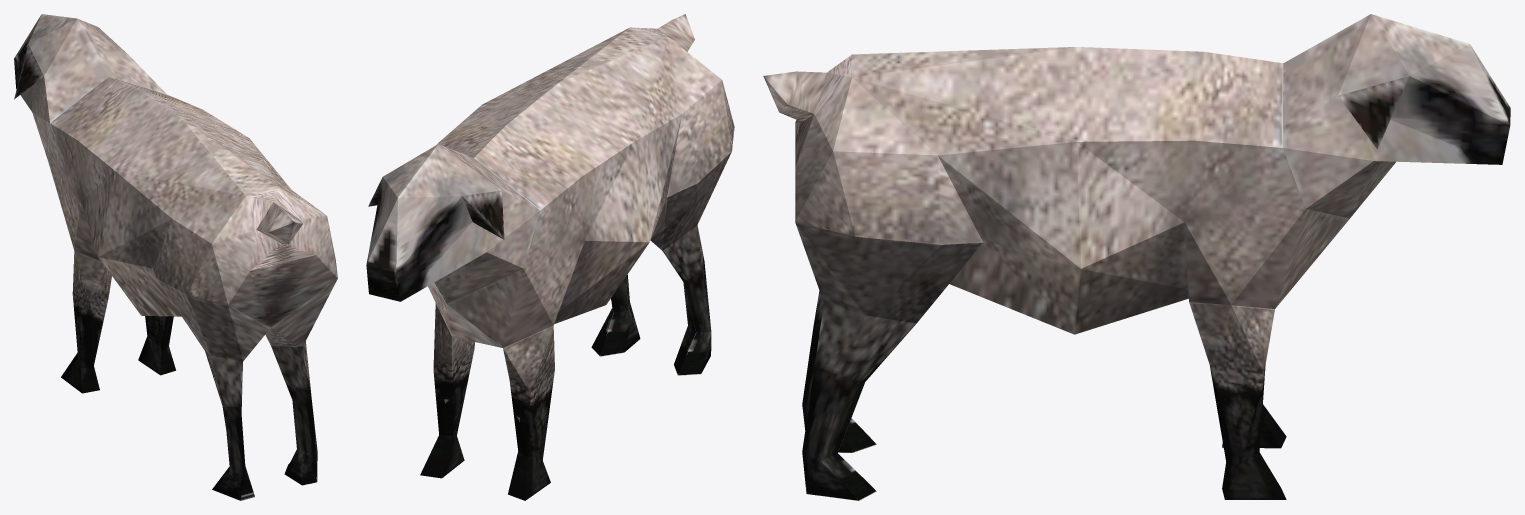
Rendered from sheep.glb.
3 renders of one model, left to right at view 1: azimuth 30°, elevation 25°; view 2: azimuth 150°, elevation 25°; view 3: azimuth 270°, elevation 25°, orthographic. The views are drawn at different scales.
Bounding box in the file's own units: 0.0107 × 0.0202 × 0.0301.
Materials: 1 (1 with a texture image).
